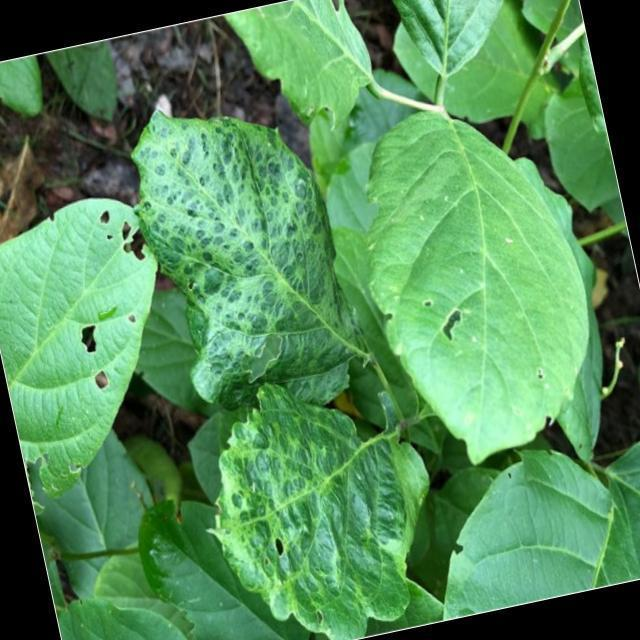Mosaic Virus: (138, 94, 353, 402), (215, 388, 428, 618)
